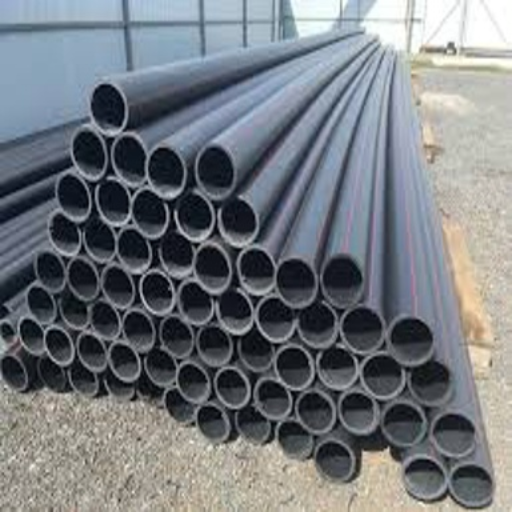Circle: (17, 317, 71, 363), (390, 317, 433, 362), (432, 412, 478, 454), (341, 307, 384, 351), (410, 360, 452, 404), (87, 83, 125, 131), (277, 257, 315, 304), (324, 256, 361, 304), (299, 300, 337, 346), (150, 145, 184, 196), (199, 145, 233, 196), (72, 127, 107, 176), (451, 463, 492, 504), (404, 456, 444, 497), (364, 353, 402, 396), (220, 200, 257, 243), (238, 247, 274, 291), (132, 190, 167, 235), (177, 192, 211, 238), (384, 404, 423, 444), (320, 345, 356, 388), (55, 173, 89, 218), (116, 134, 147, 183), (258, 297, 294, 339), (195, 244, 229, 288), (277, 347, 312, 388), (97, 179, 129, 223), (220, 290, 252, 334), (340, 392, 376, 431), (162, 232, 194, 274), (119, 228, 150, 271), (297, 392, 332, 430), (276, 420, 310, 459), (318, 440, 352, 478), (241, 331, 274, 370), (141, 272, 173, 312), (236, 405, 269, 443), (102, 267, 133, 307), (161, 316, 192, 356), (197, 325, 230, 362), (256, 380, 289, 417), (181, 283, 211, 323), (216, 369, 248, 406), (50, 213, 80, 252), (36, 251, 66, 290), (124, 311, 154, 350), (87, 219, 115, 260), (197, 404, 228, 439), (179, 364, 209, 400), (69, 259, 98, 296), (148, 348, 178, 383), (110, 344, 139, 379), (167, 388, 195, 422), (92, 301, 119, 336), (68, 362, 96, 394), (79, 335, 106, 368), (27, 288, 55, 319), (1, 355, 27, 388), (40, 359, 66, 391), (62, 295, 87, 325), (106, 372, 132, 398), (140, 380, 160, 403)
